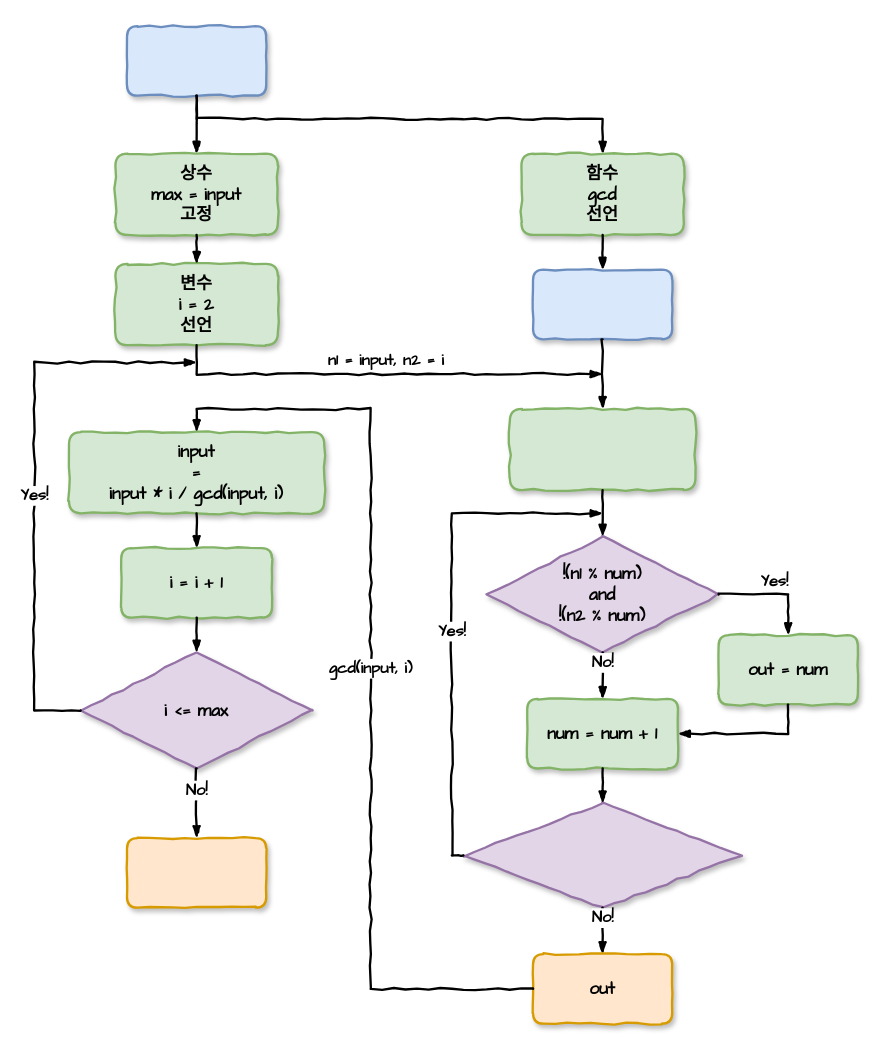
The diagram is 885 pixels wide and 1052 high, and some of its shapes have lost their labels. The shapes that lost their labels are listed below. From the top down, each one's centre as x and y in pixels, then its label:
At point (197, 62): "Input".
At point (603, 305): "n1, n2".
At point (603, 451): "변수 num = 1, out = num 선언".
At point (197, 874): "Output".
At point (603, 856): "num <= Math.min(n1, n2)".
